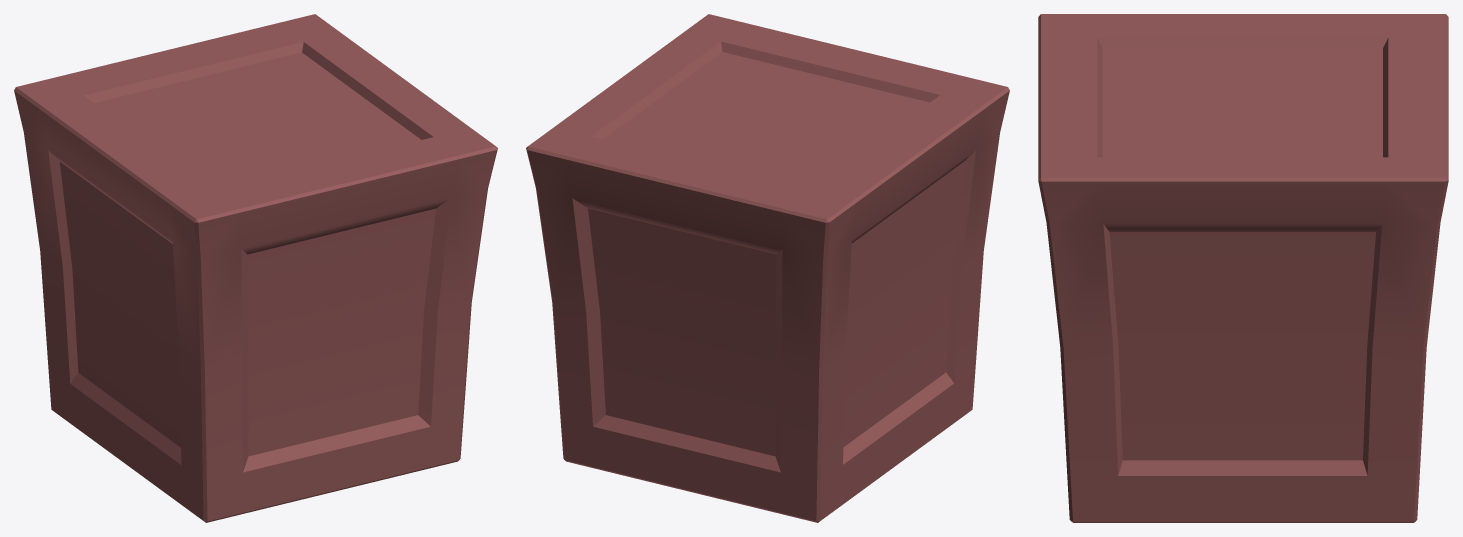
3 renders of one model, left to right at view 1: azimuth 30°, elevation 25°; view 2: azimuth 150°, elevation 25°; view 3: azimuth 270°, elevation 25°, orthographic. The views are drawn at different scales.
Parts seen in each view (by area): view 1: box_A; view 2: box_A; view 3: box_A.
Boxes of the visible parts, bbox=[...] form: box_A: bbox=[14, 14, 497, 522]; box_A: bbox=[526, 14, 1009, 522]; box_A: bbox=[1038, 14, 1448, 522].
Size of the model in its own units: 1.65 by 1.66 by 1.73.
